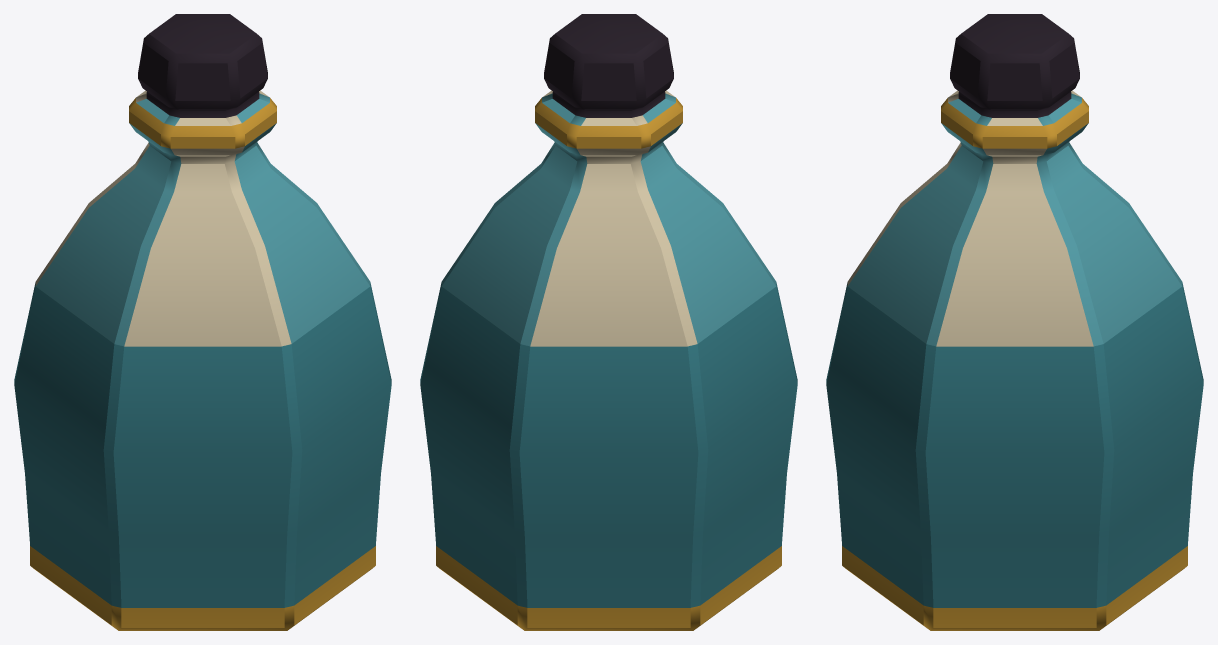
The model's file is Bottle_06.glb.
The picture shows the model from 3 angles, left to right: view 1: azimuth 30°, elevation 25°; view 2: azimuth 150°, elevation 25°; view 3: azimuth 270°, elevation 25°; orthographic projection.
Visible parts, largest first — view 1: Bottle_06; view 2: Bottle_06; view 3: Bottle_06.
Boxes of the visible parts, x1=… form: Bottle_06: x1=14, y1=14, x2=391, y2=630; Bottle_06: x1=420, y1=14, x2=797, y2=630; Bottle_06: x1=826, y1=14, x2=1203, y2=630.
Bounding box in the file's own units: 1.29 × 2.32 × 1.46.
